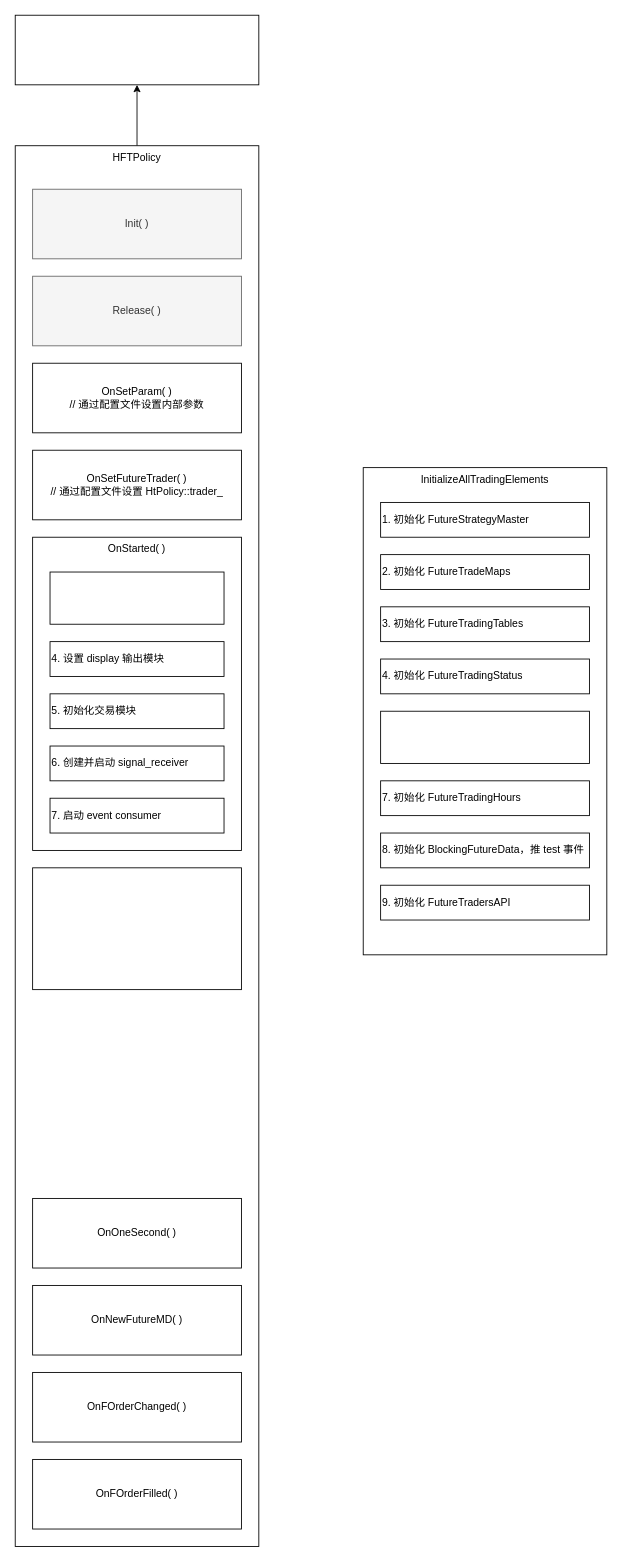
This 622x1562 diagram has some shape labels left out. Each missing label, with the centre of its shape:
"1. 读取 trade config 2. 读取 pre_position config 3. 解析得到 pre_positions" goes at point (136, 597).
"5. 初始化 FutureTradingPosition 6. 使用 pre_position 设置仓位" goes at point (484, 736).
"OnStopped( )" goes at point (136, 928).
"qtapi::IPolicy" goes at point (136, 49).
